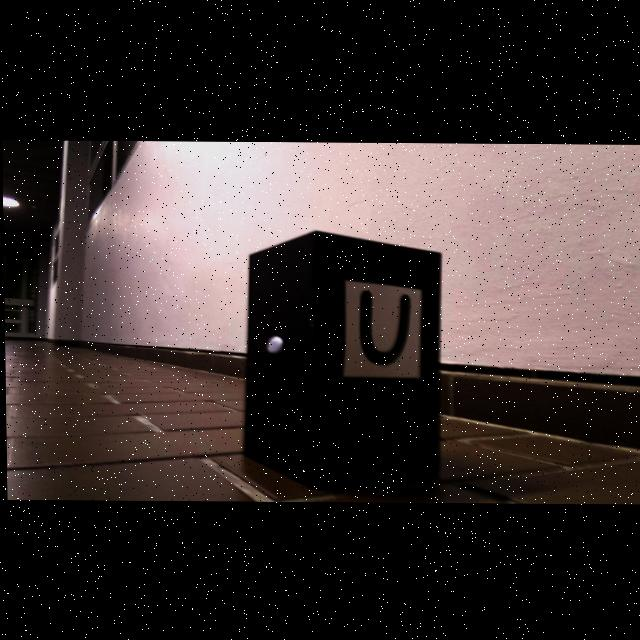U: (359, 291, 412, 366)
